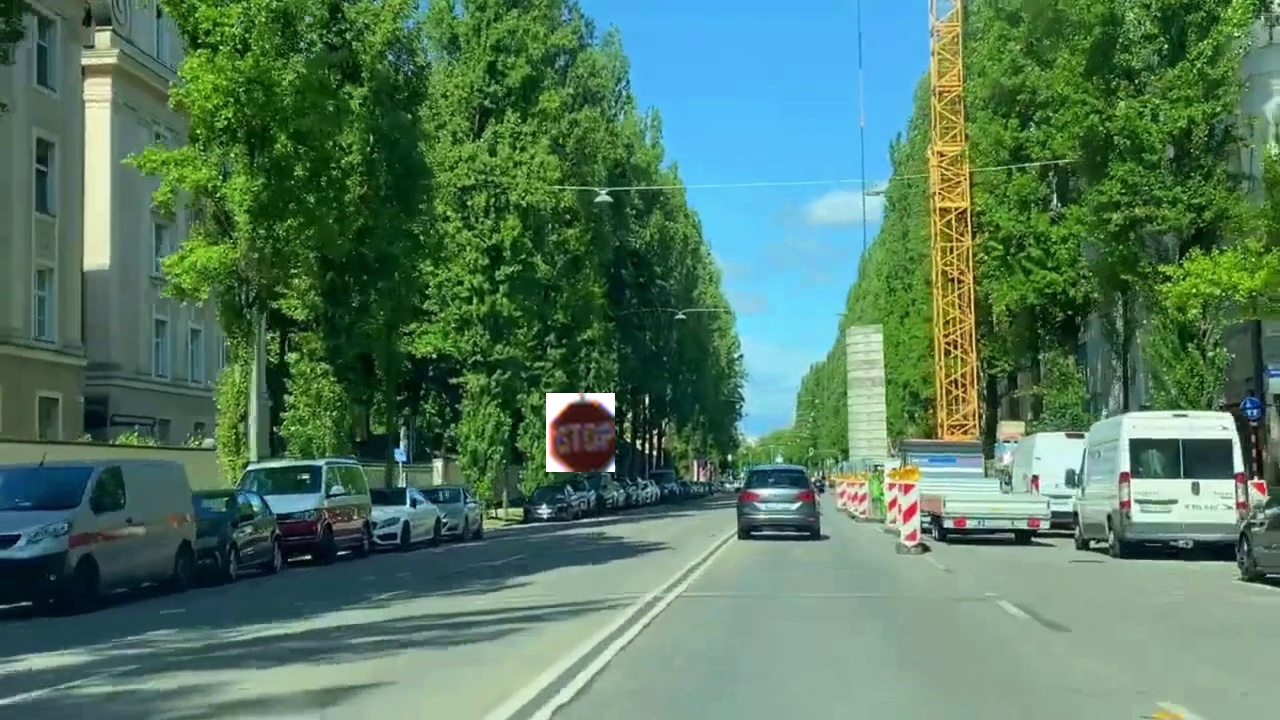Stop: (546, 393, 615, 472)
